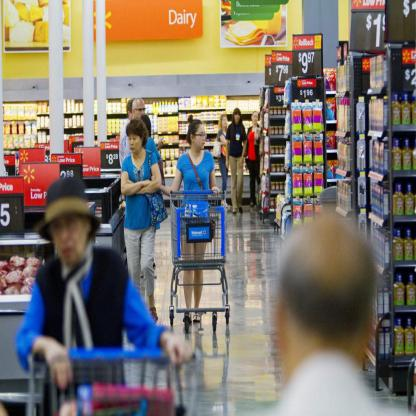face: (54, 207, 85, 268), (129, 128, 142, 154), (195, 125, 206, 151), (137, 104, 146, 125), (131, 106, 138, 125), (235, 113, 241, 124), (253, 113, 259, 124), (223, 118, 228, 128)
